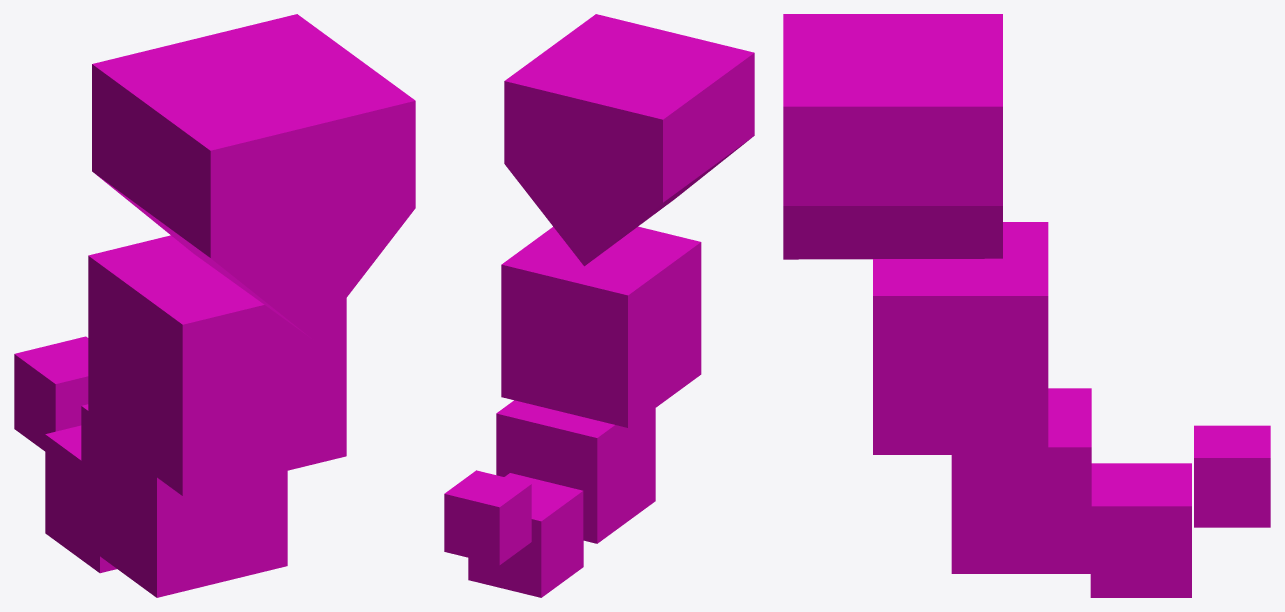
The model's file is PlayerSnake.fbx.
The picture shows the model from 3 angles, left to right: view 1: azimuth 30°, elevation 25°; view 2: azimuth 150°, elevation 25°; view 3: azimuth 270°, elevation 25°; orthographic projection. The views are drawn at different scales.
Parts seen in each view (by area): view 1: Snek; view 2: Snek; view 3: Snek.
Boxes of the visible parts, left/top/right/bottom form: Snek: left=14, top=14, right=415, bottom=597; Snek: left=444, top=14, right=754, bottom=597; Snek: left=783, top=14, right=1270, bottom=597.
Bounding box in the file's own units: 19.52 × 50.67 × 43.34.
